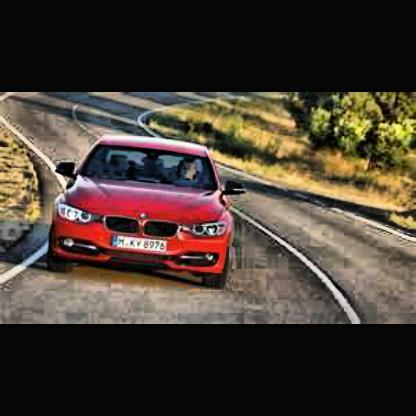BMW 3 Series Sedan 2012: (46, 128, 255, 295)
